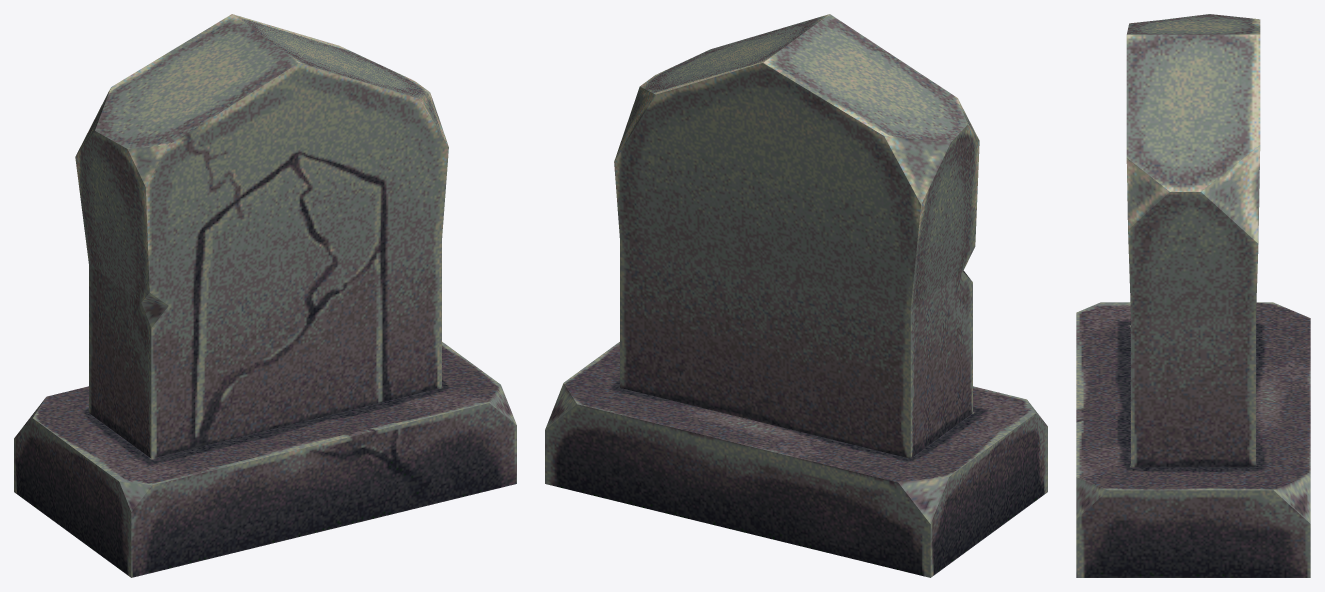
The model's file is graves.glb.
The picture shows the model from 3 angles, left to right: view 1: azimuth 30°, elevation 25°; view 2: azimuth 150°, elevation 25°; view 3: azimuth 270°, elevation 25°; orthographic projection.
Parts seen in each view (by area): view 1: Cube; view 2: Cube; view 3: Cube.
Part boxes in pixels (box(x1,y1,x2,y2)): Cube: box(14, 14, 516, 577); Cube: box(545, 14, 1047, 577); Cube: box(1076, 14, 1310, 577).
Size of the model in its own units: 2 by 2.23 by 1.05.
Materials: 1 (1 with a texture image).
